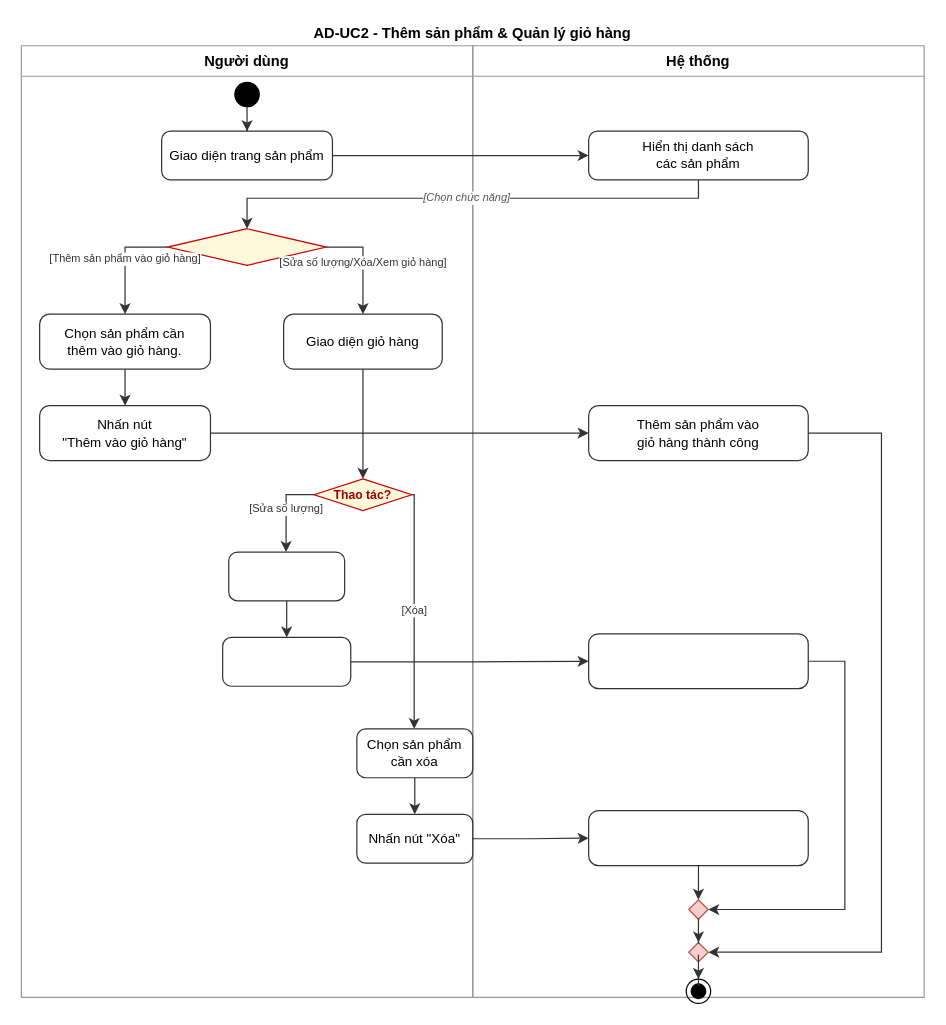
The diagram is 946 pixels wide and 1025 high, and some of its shapes have lost their labels. The shapes that lost their labels are listed below. From the top down, each one's centre as x and y in pixels, then its label:
At [246,246]: "Chọn chức năng".
At [286,576]: "Nhập số lượng".
At [286,661]: "Nhấn nút cập nhật".
At [697,661]: "Sửa số lượng sản phẩm trong giỏ hàng thành công.".
At [697,837]: "Xóa sản phẩm trong giỏ hàng thành công".
